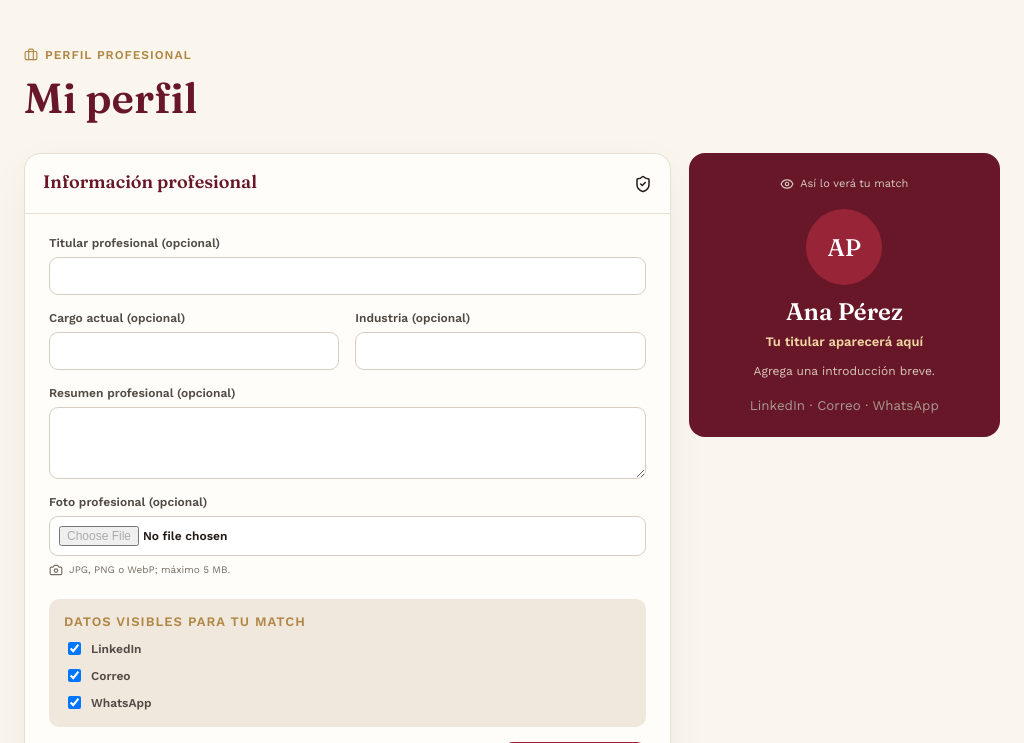
Test: ProfilePanel · usuario demo autenticado › editar y guardar el perfil actualiza la vista previa y persiste en localStorage
This screenshot has width=1024, height=743.
Expected: the heading "Ana Pérez" is shown, [786,297,903,326]
Type "Product Manager" into the field labelled "Titular profesional (opcional)" at (347, 276), box [49,257,646,295]
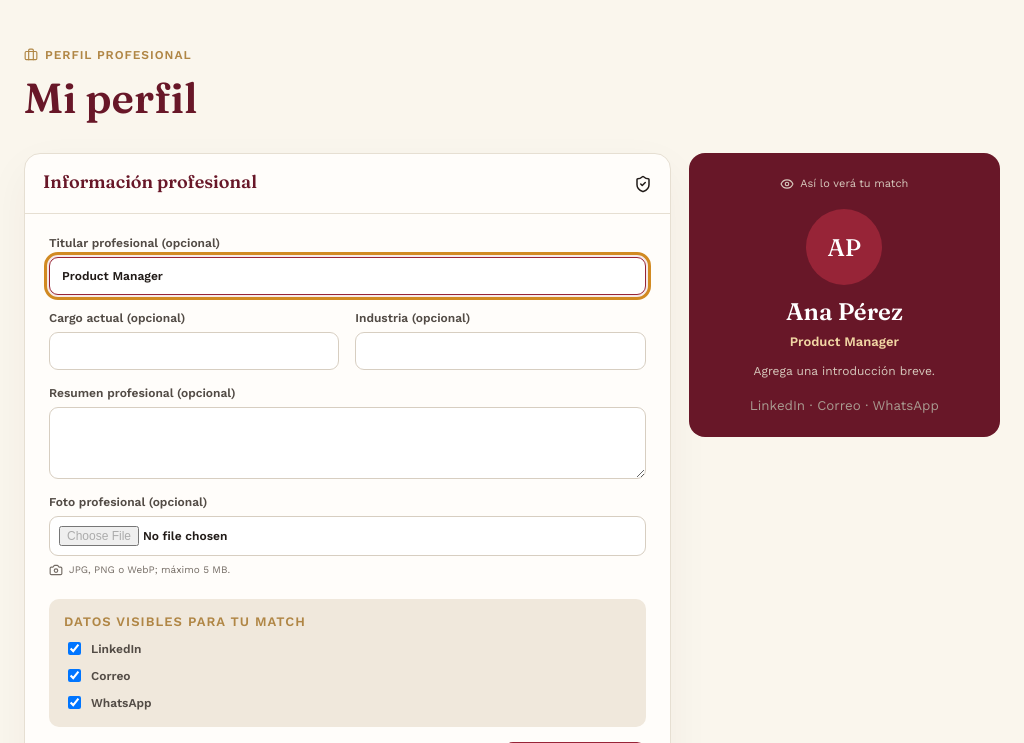
Type "PM Senior" into the field labelled "Cargo actual (opcional)" at (194, 351), box [49,332,339,370]
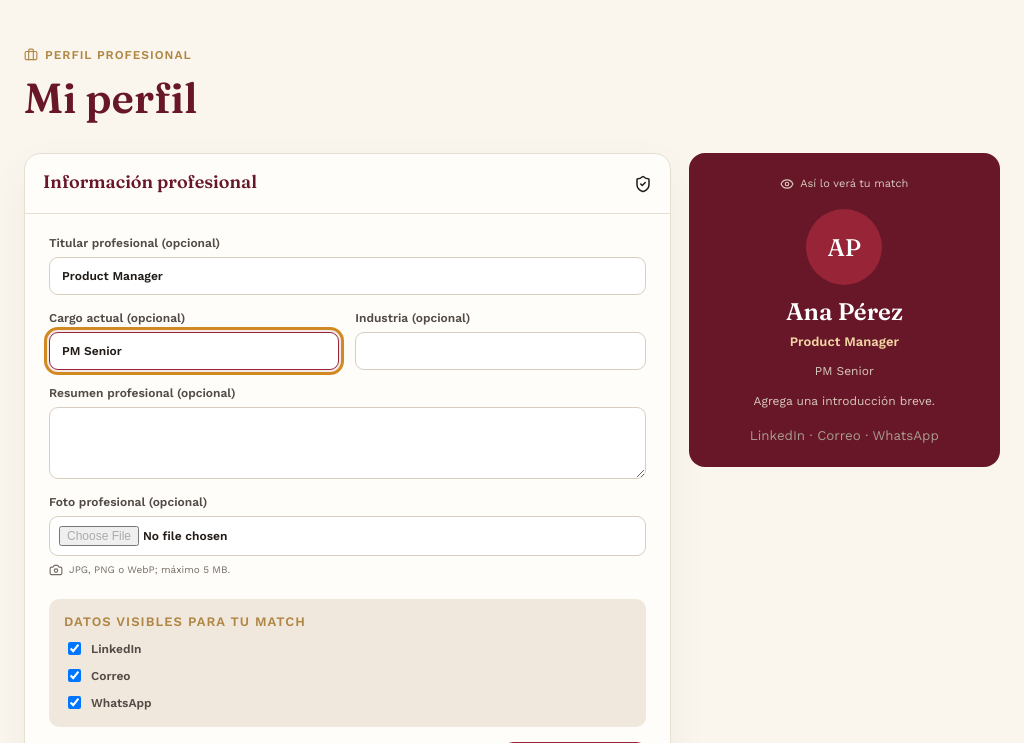
Type "Tecnología" into the field labelled "Industria (opcional)" at (500, 351), box [355,332,646,370]
(page scrolled)
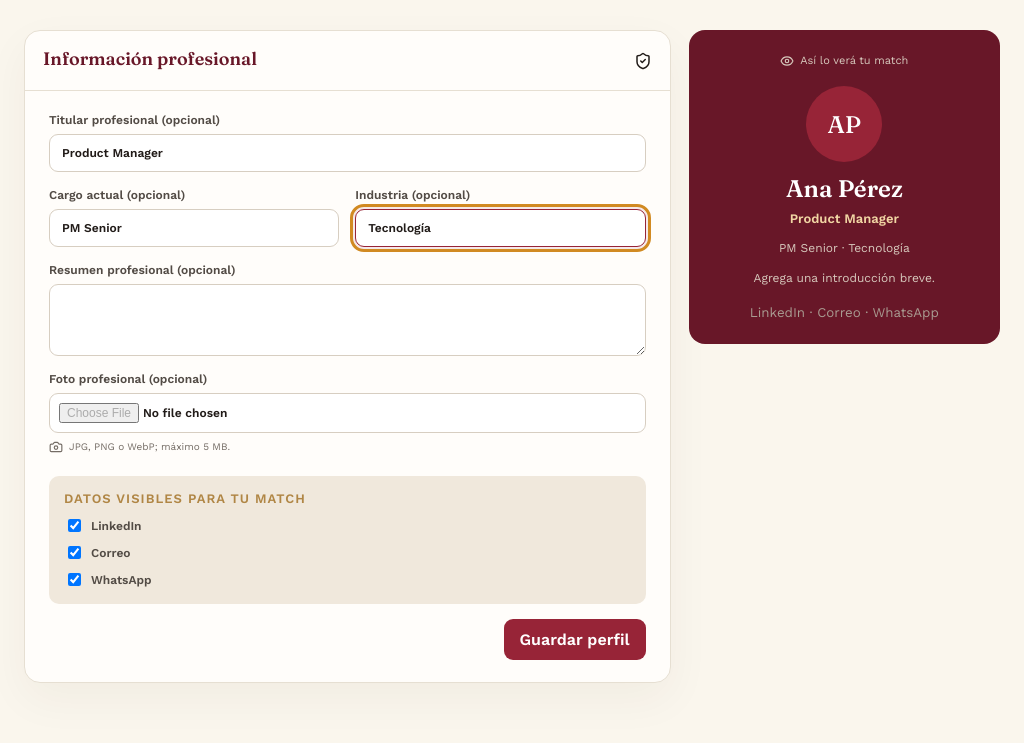
Expected: the element that starts with "Así lo verá tu match" shows "Product Manager", [790,211,899,226]
Click the button "Guardar perfil" at (575, 640), box [504,619,646,660]
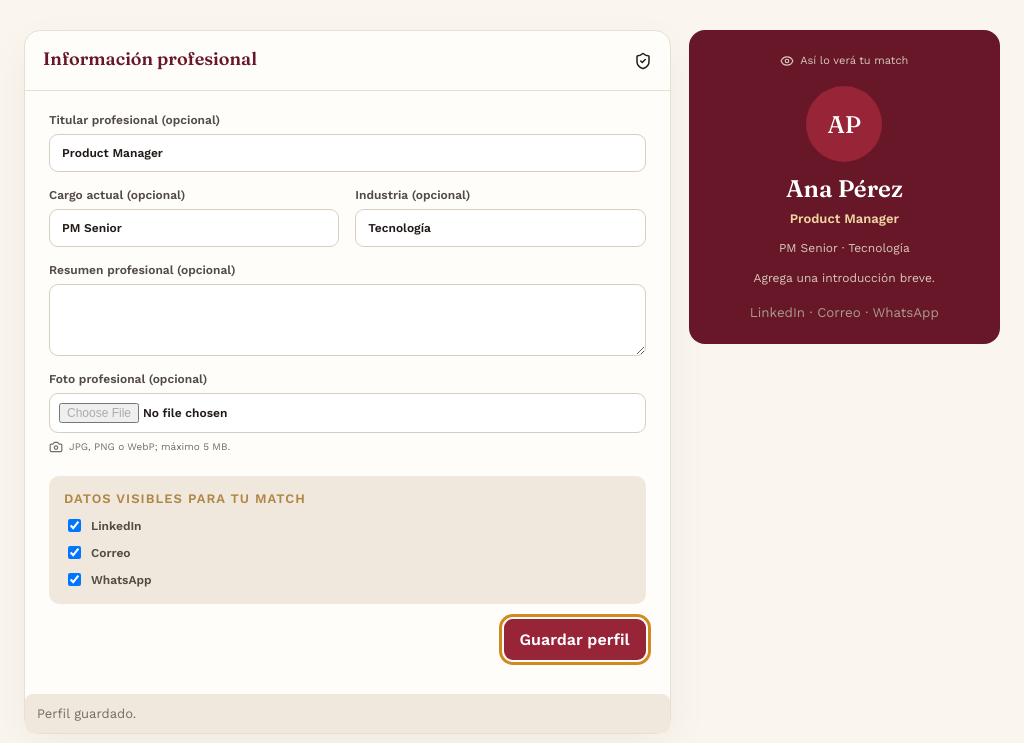
Expected: the text "Product Manager" is shown, [790,211,899,226]
Expected: the text "Perfil guardado." is shown, [25,694,670,733]
